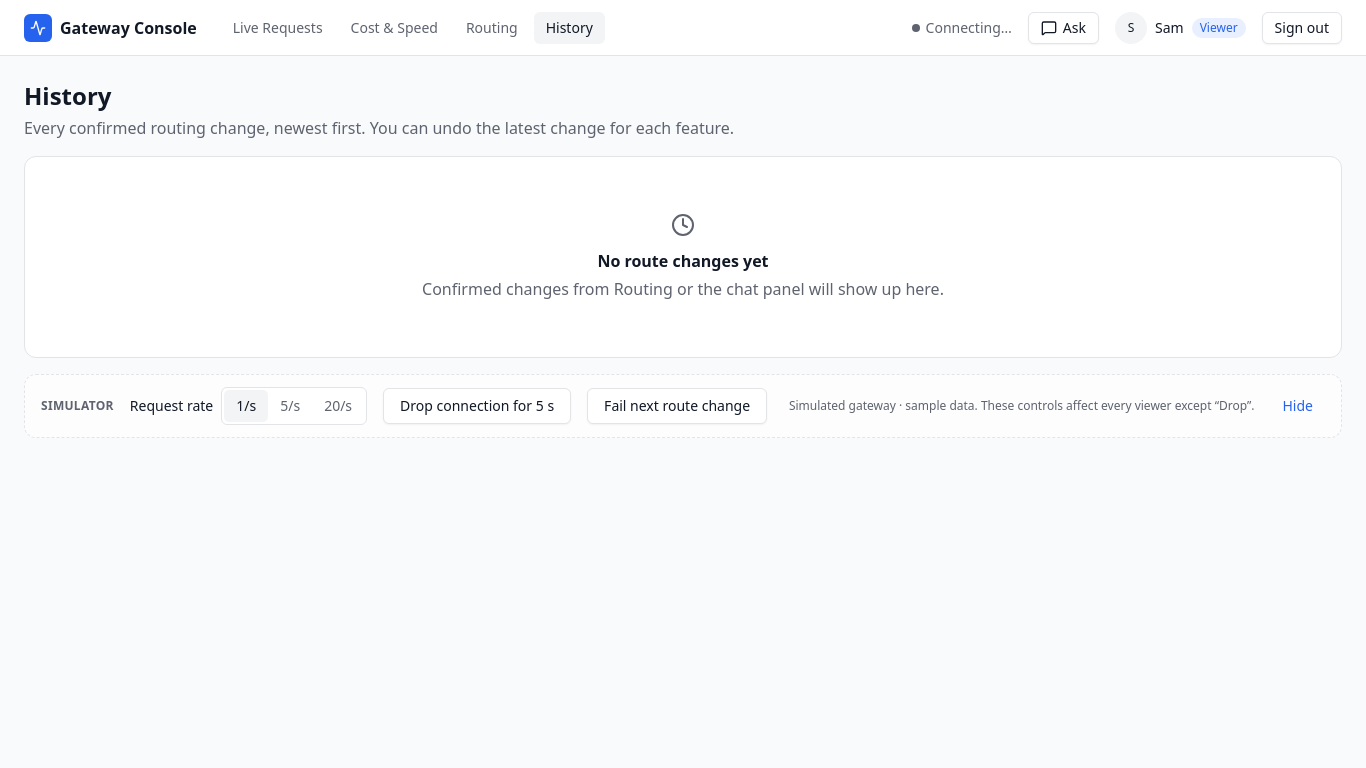
Scenario: app shell (S1) › brand logo and name link back to the home screen
Expected: the heading "History" is shown, x1=24 y1=79 x2=111 y2=112
What coordinates should you click on to do the following:
click the link with aria-label "Gateway Console home"
I would click on:
 (110, 28)
Its box is x1=24 y1=14 x2=197 y2=42.
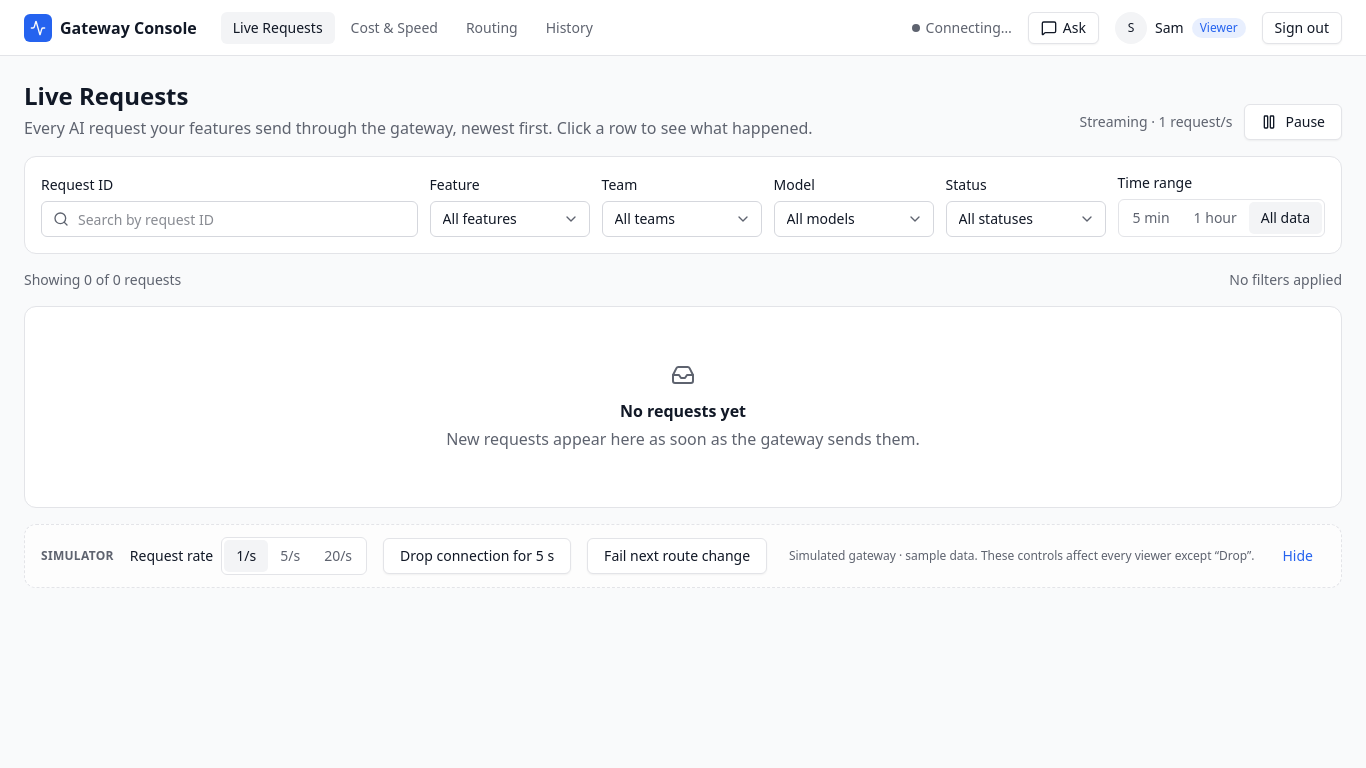
Result: the heading "Live Requests" is shown at x1=24 y1=79 x2=188 y2=112
